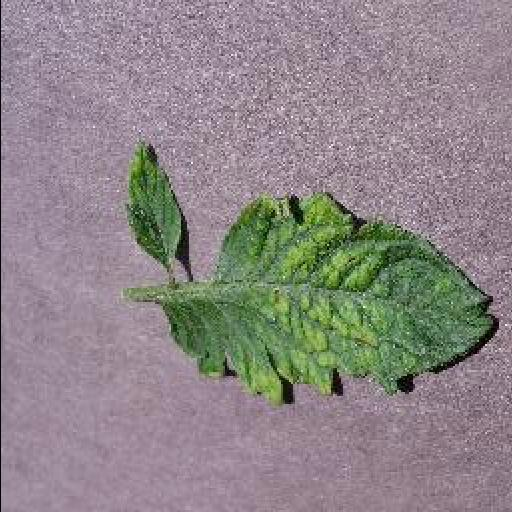disease_tomato: (162, 192, 500, 404), (125, 142, 187, 264)
